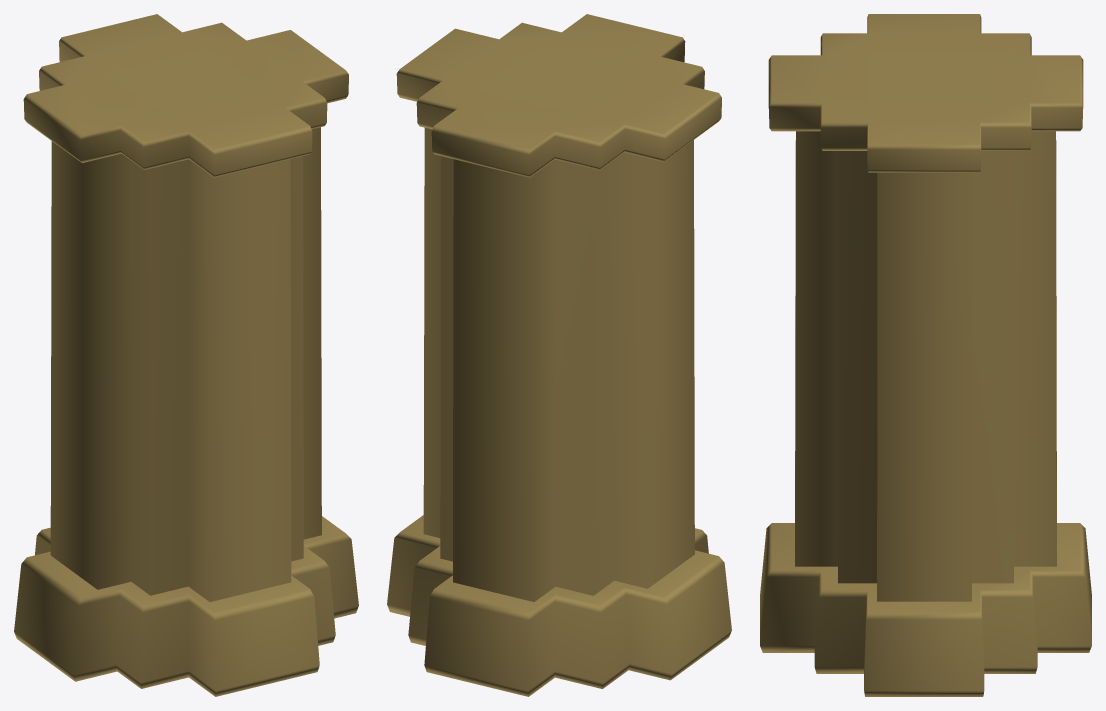
Rendered from Pillar_03_Lod0.fbx.
The picture shows the model from 3 angles, left to right: view 1: azimuth 30°, elevation 25°; view 2: azimuth 150°, elevation 25°; view 3: azimuth 270°, elevation 25°; orthographic projection.
Visible parts, largest first — view 1: Pillar_03_Lod0; view 2: Pillar_03_Lod0; view 3: Pillar_03_Lod0.
Part boxes in pixels (x1,y1,x2,y2): Pillar_03_Lod0: (14,14,358,696); Pillar_03_Lod0: (387,14,731,696); Pillar_03_Lod0: (760,14,1091,696).
Bounding box in the file's own units: 165 × 301 × 165.
